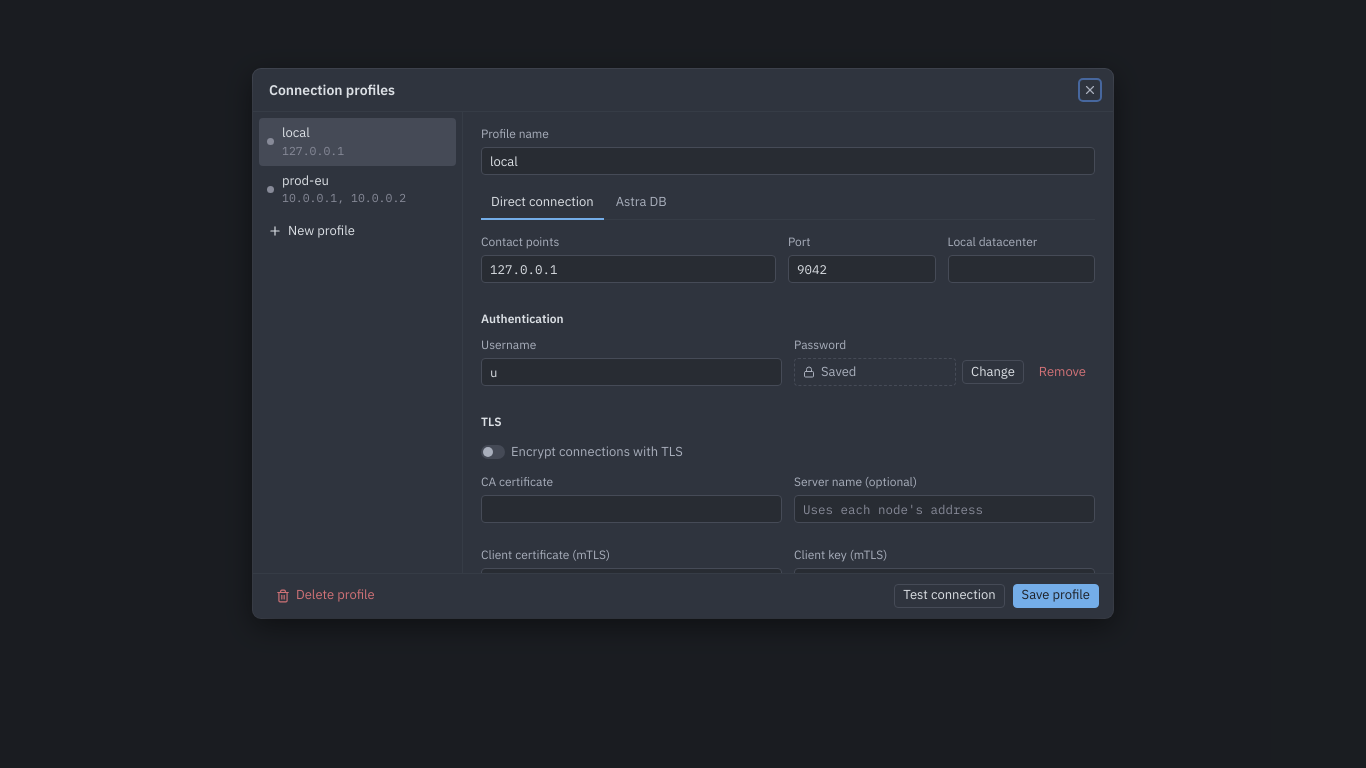
Test case: ProfileDialog › lists profiles and fills the form from the selection
Expected: the field labelled "Profile name" holds "local", [481,147,1095,175]
Click the option "prod-eu 10.0.0.1, 10.0.0.2": (358, 189) [259,166,456,213]
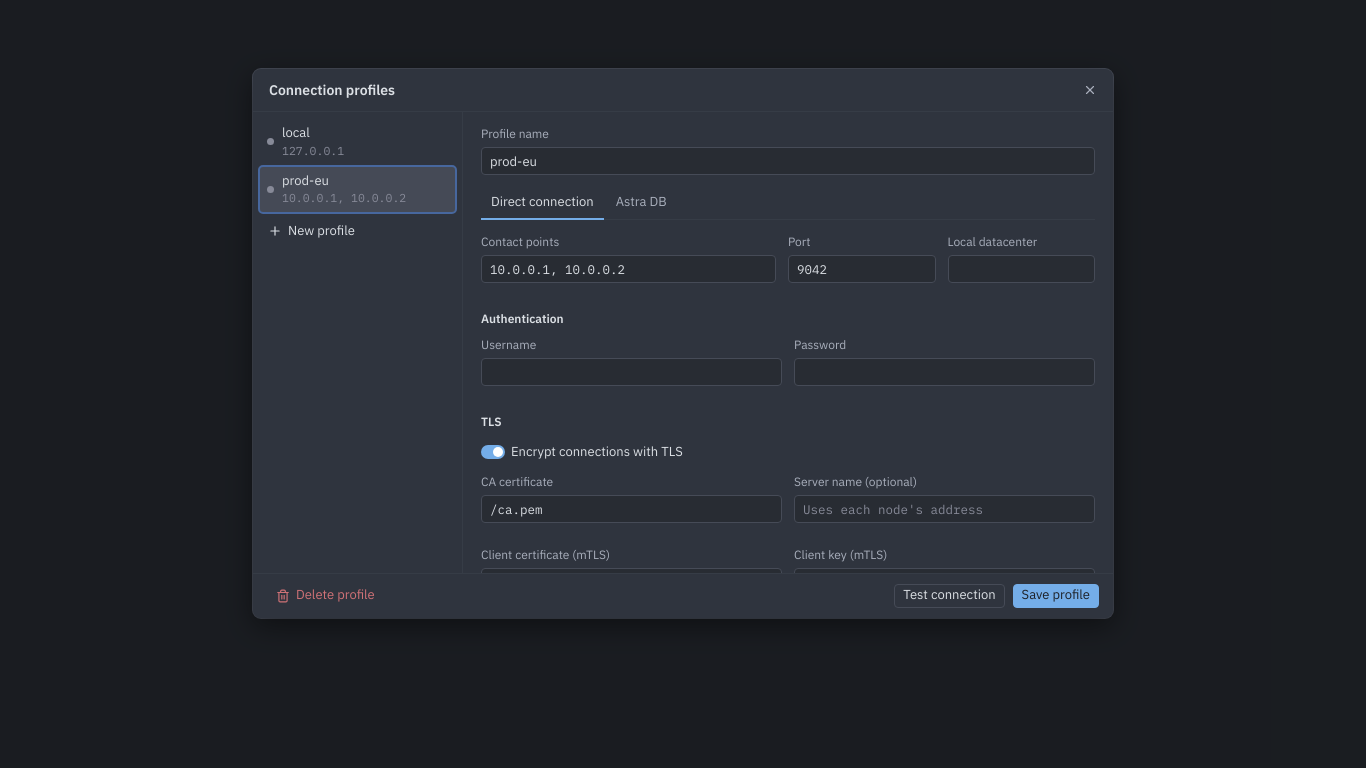
Now the field labelled "Profile name" holds "prod-eu", box [481,147,1095,175]
Now the field labelled "Contact points" holds "10.0.0.1, 10.0.0.2", box [481,255,776,283]
Now the field labelled "CA certificate" holds "/ca.pem", box [481,495,782,523]
